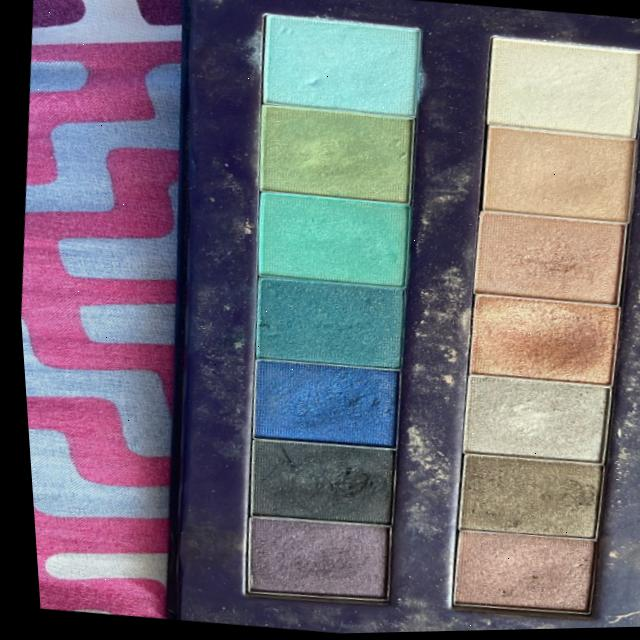highlighter: (160, 0, 640, 637)
